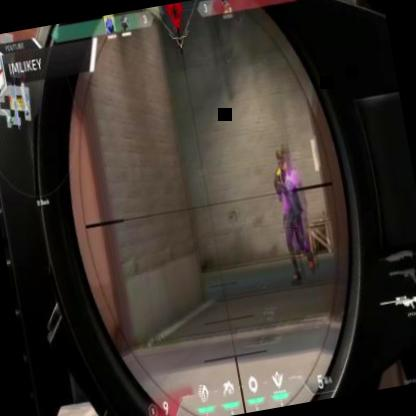enemy: (266, 145, 319, 281)
enemy_head: (274, 146, 290, 176)
